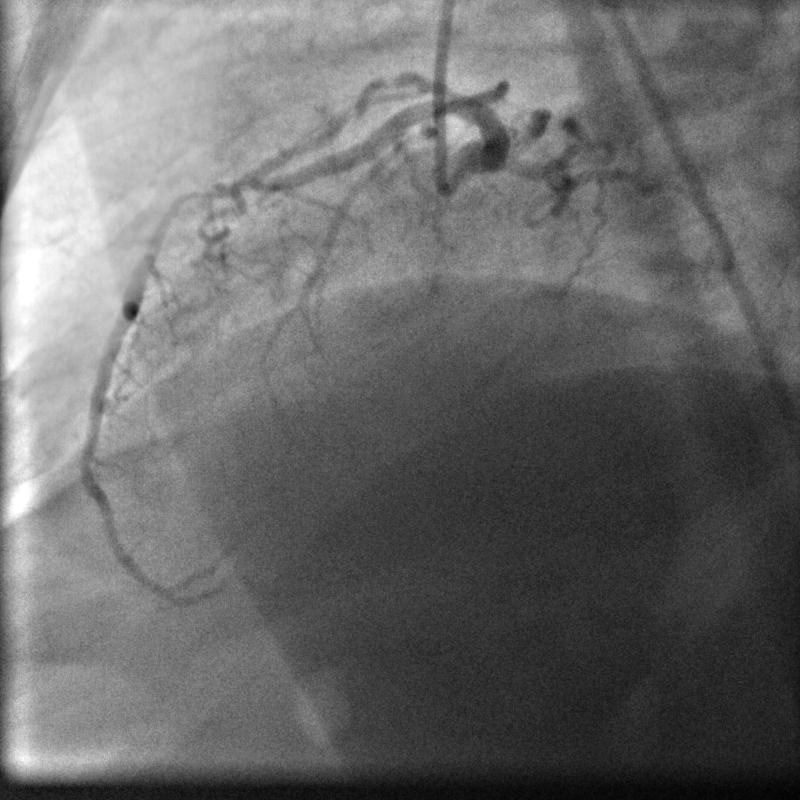Stenosis: (144, 185, 216, 242)
